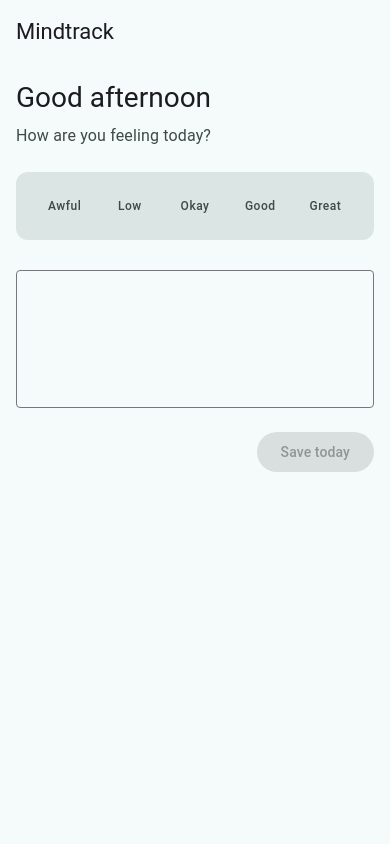
Scenario: saves a mood and note for today
Expected: the text "How are you feeling today?" is shown, left=16, top=126, right=211, bottom=145
Click the radio button with test id "mood-good" at (260, 206), box left=245, top=199, right=276, bottom=213
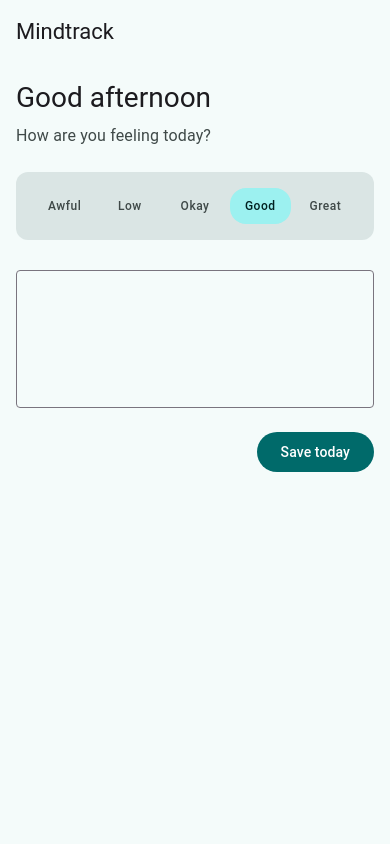
Type "  Went for a walk  " into the text box with test id "note-input" at (195, 340), box left=16, top=272, right=374, bottom=408
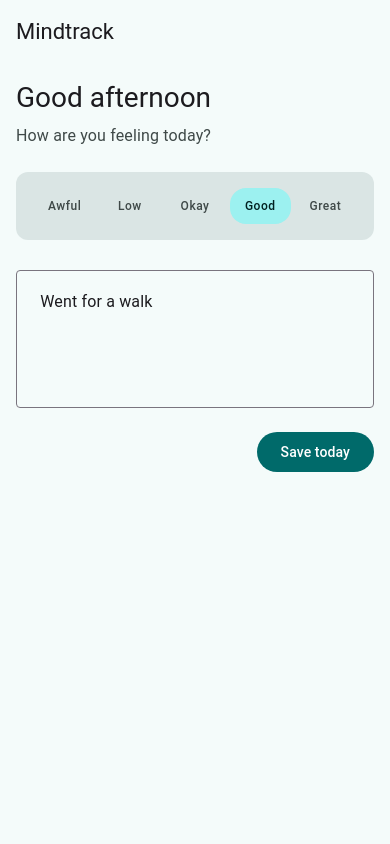
Click the button with test id "save-button" at (315, 452), box left=257, top=432, right=374, bottom=472
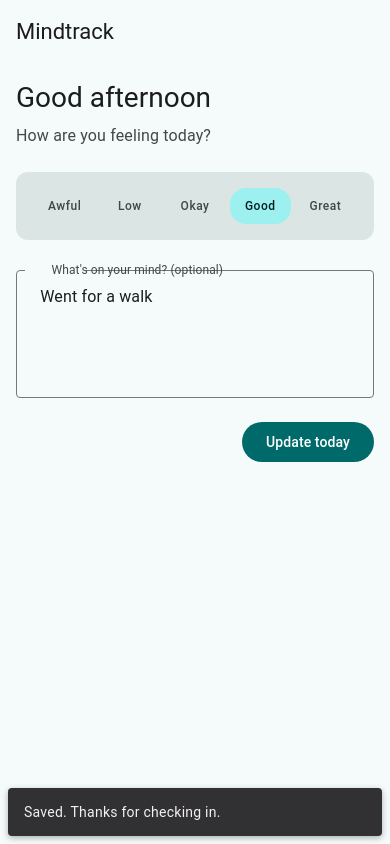
Expected: the text "Saved. Thanks for checking in." is shown, left=24, top=804, right=221, bottom=820
